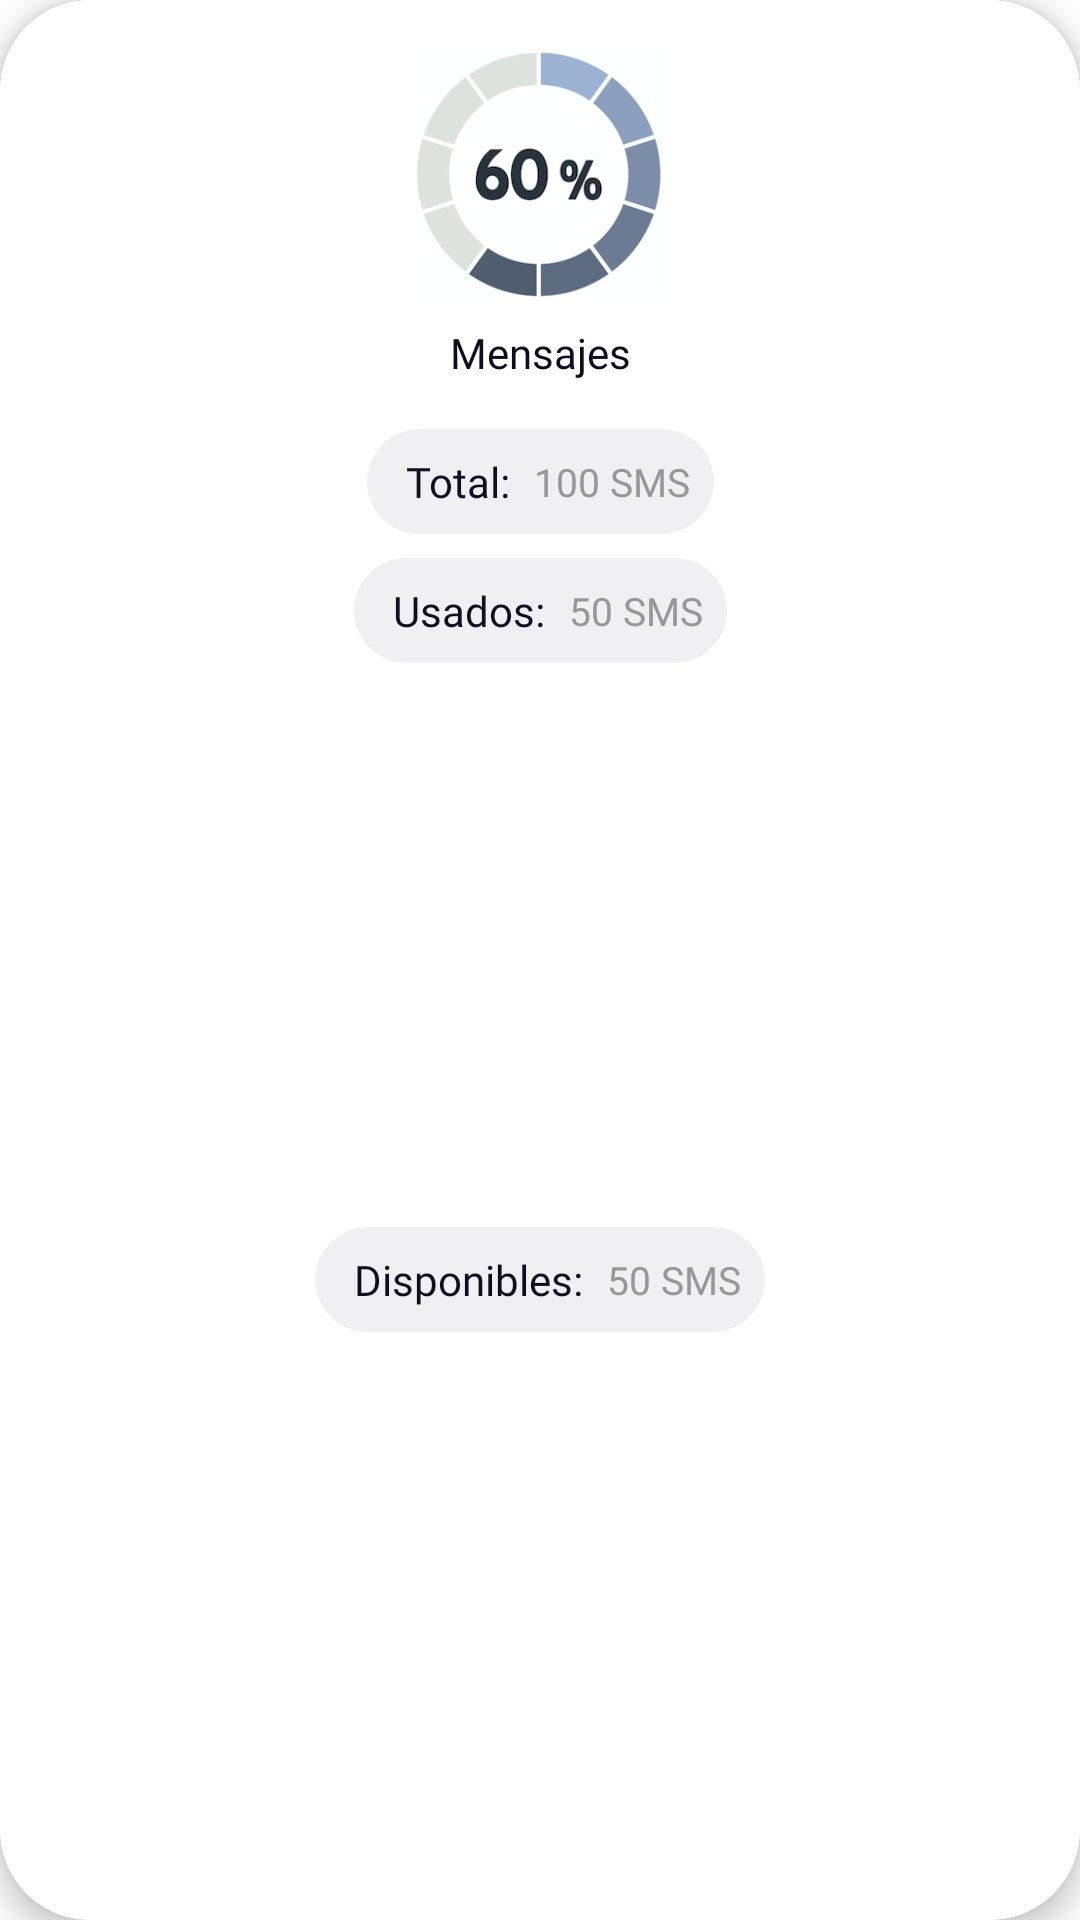

Named icons in this screenshot (1080x1920) and their bounding boxes, [x1=x1, y1=y1, x2=x2, y2=y2]:
indicator: [x1=417, y1=52, x2=661, y2=297]
